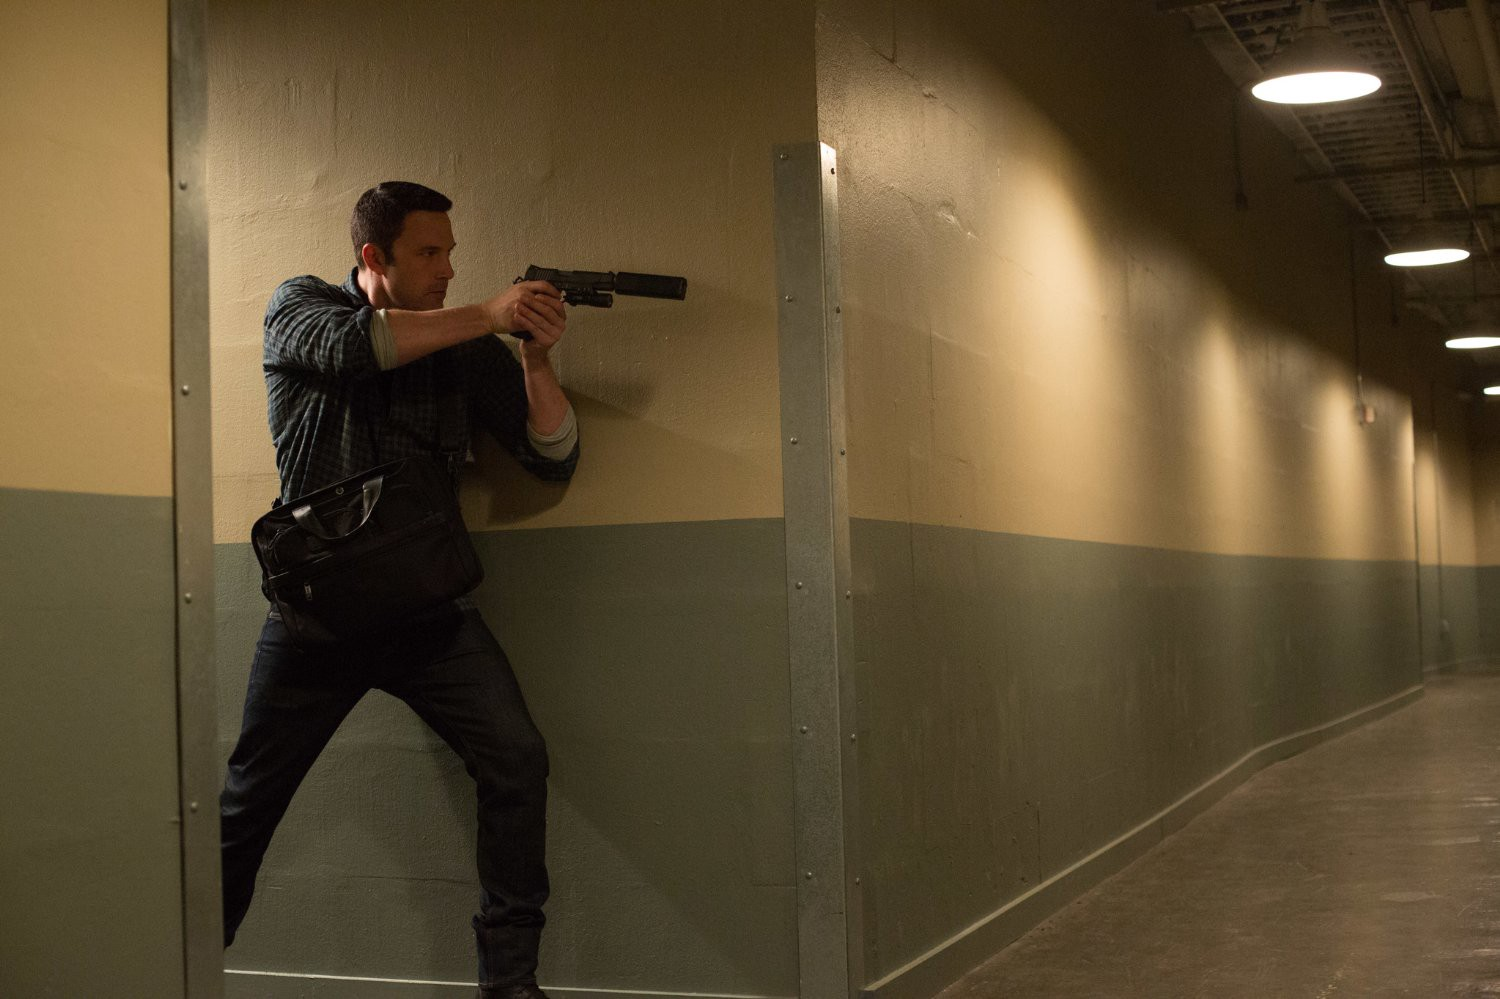pistol: (515, 260, 690, 358)
